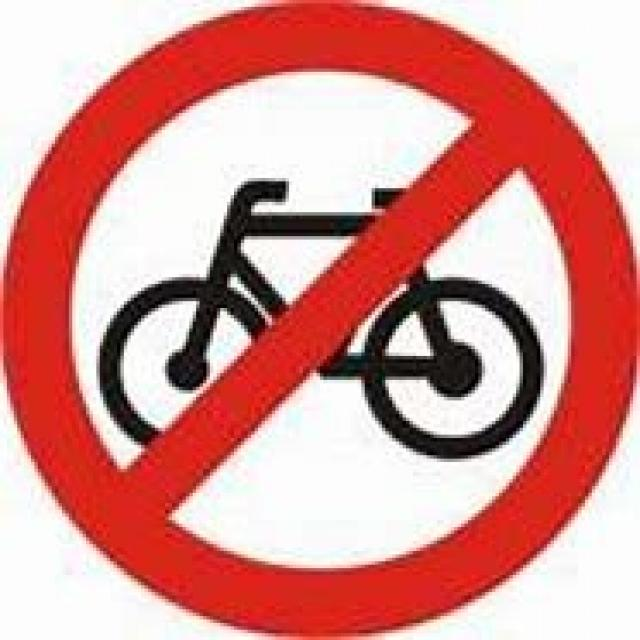CYCLE_PROHIBITED: (0, 0, 637, 637)
